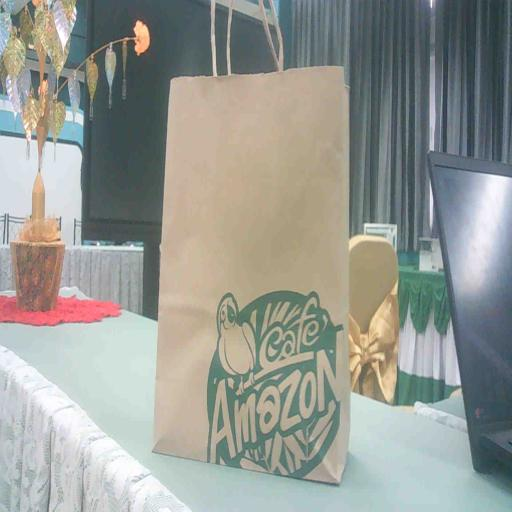bag: (148, 68, 362, 498)
